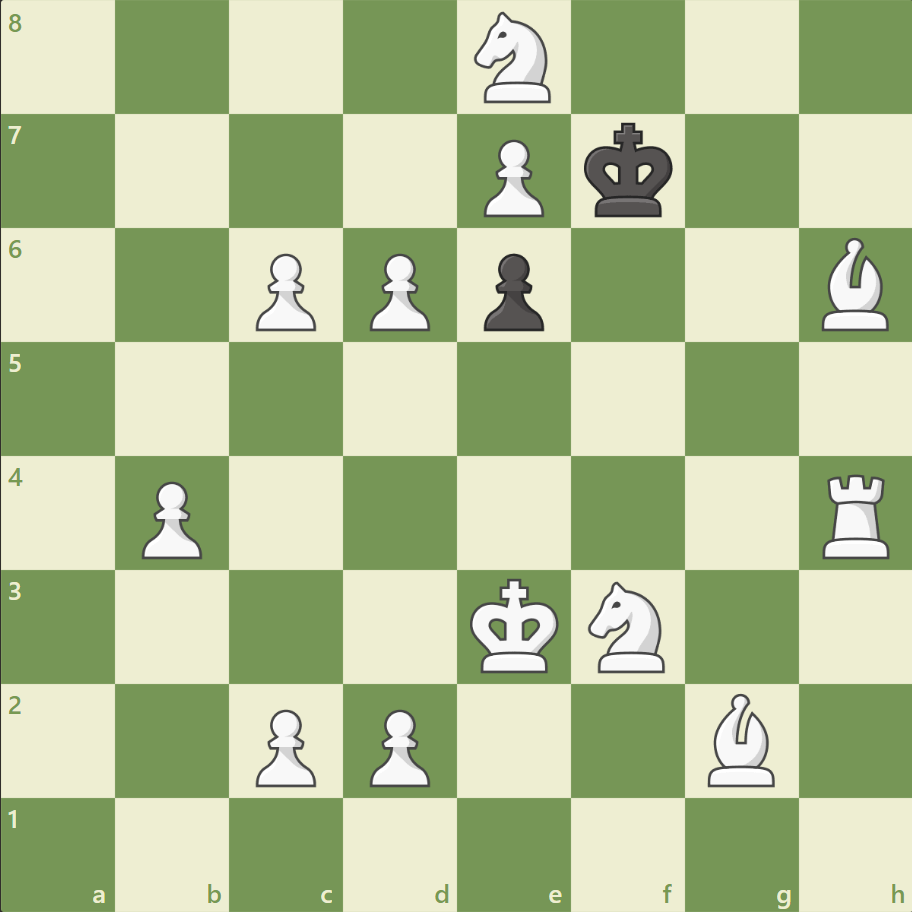B: (812, 233, 896, 336), (698, 687, 782, 790)
K: (465, 571, 565, 679)
N: (465, 7, 562, 110), (579, 575, 676, 677)
P: (474, 132, 549, 223), (247, 246, 322, 337), (133, 473, 208, 564), (247, 700, 322, 791), (361, 246, 435, 337), (361, 700, 435, 791)
R: (814, 466, 897, 563)
k: (579, 117, 679, 225)
p: (474, 246, 549, 337)
